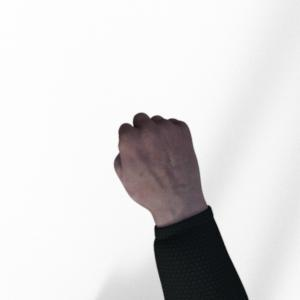rock: (115, 113, 207, 227)
